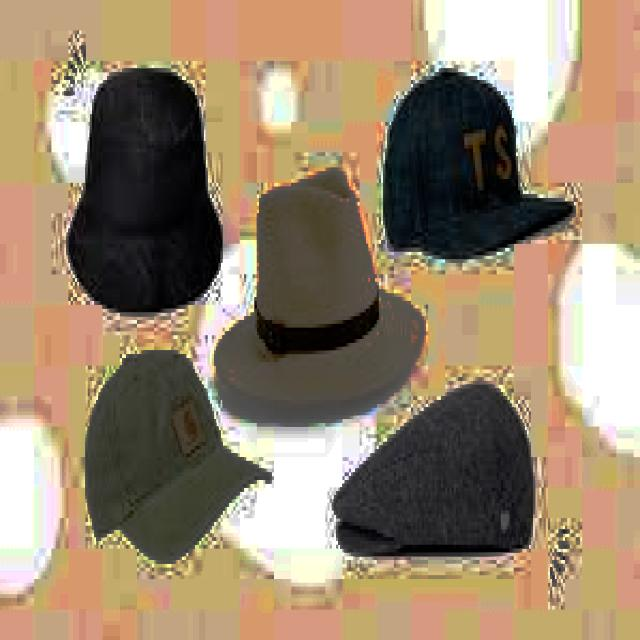TOPI: (210, 156, 426, 412), (81, 331, 276, 560), (60, 50, 225, 312), (374, 50, 574, 259), (328, 377, 542, 556)
